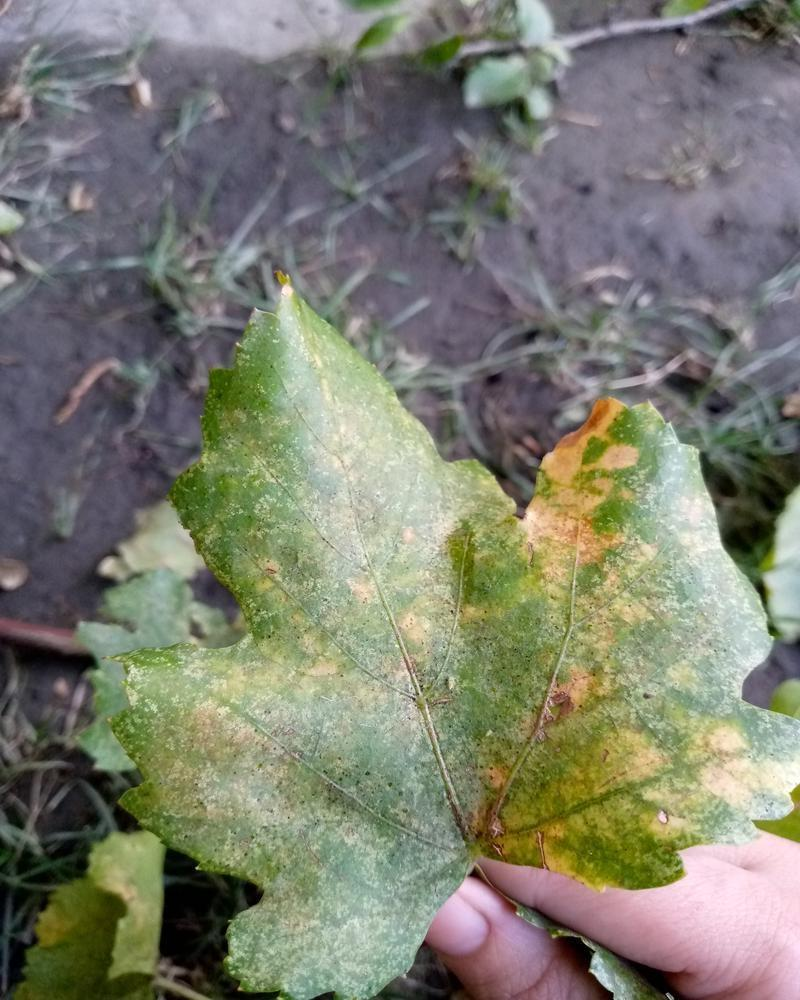Powdery-Mildew: (271, 300, 476, 628), (477, 712, 799, 884), (221, 499, 426, 734), (235, 795, 438, 993), (524, 407, 662, 631), (141, 655, 302, 802), (659, 479, 767, 641), (548, 650, 611, 713)
